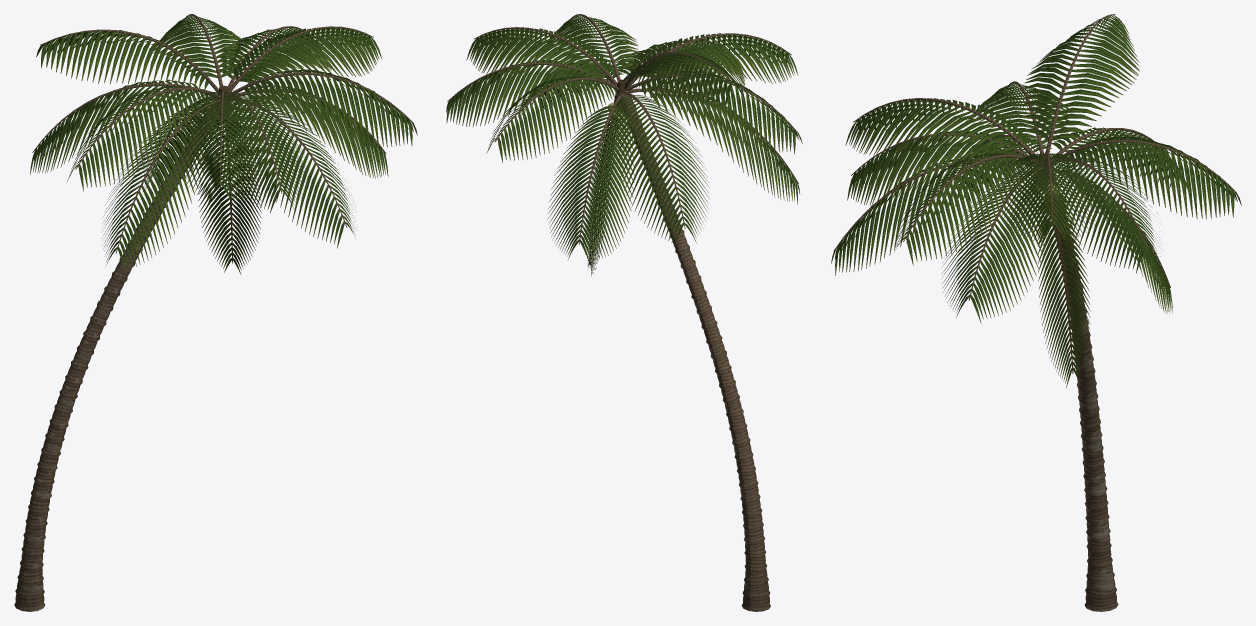
File: palm_b.glb
The picture shows the model from 3 angles, left to right: view 1: azimuth 30°, elevation 25°; view 2: azimuth 150°, elevation 25°; view 3: azimuth 270°, elevation 25°; orthographic projection. The views are drawn at different scales.
Parts seen in each view (by area): view 1: palm_b; view 2: palm_b; view 3: palm_b.
Boxes of the visible parts, box(x1,y1,x2,y2) form: palm_b: box(14, 14, 417, 611); palm_b: box(446, 14, 802, 611); palm_b: box(831, 14, 1241, 611).
Bounding box in the file's own units: 7.66 × 12.21 × 7.44.
3 materials, 2 textured.
